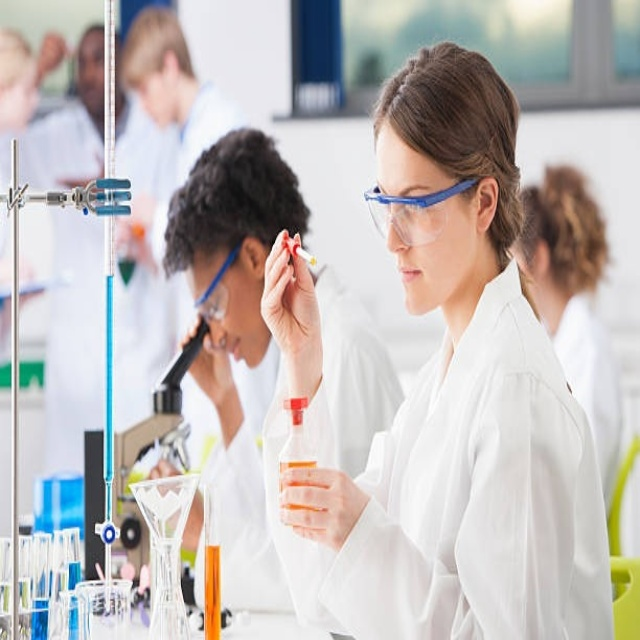Gafas: (363, 177, 479, 246), (193, 241, 244, 318)
Sin_guantes: (260, 227, 327, 347), (276, 458, 363, 544)
Sin_mascara: (391, 245, 435, 314), (212, 329, 255, 369)
